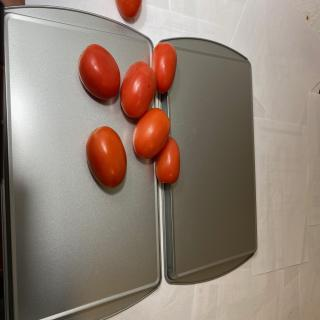Tomato: (86, 125, 127, 188), (78, 43, 120, 100), (120, 61, 157, 118), (132, 107, 170, 159), (151, 42, 177, 94), (155, 136, 180, 184), (115, 0, 142, 19)
